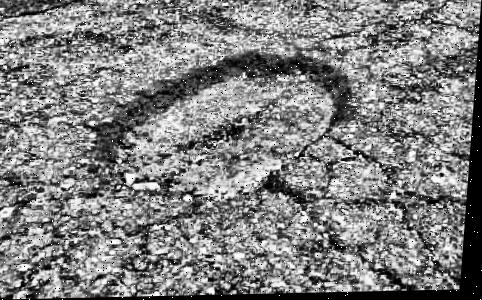pothole: (86, 47, 358, 206)
